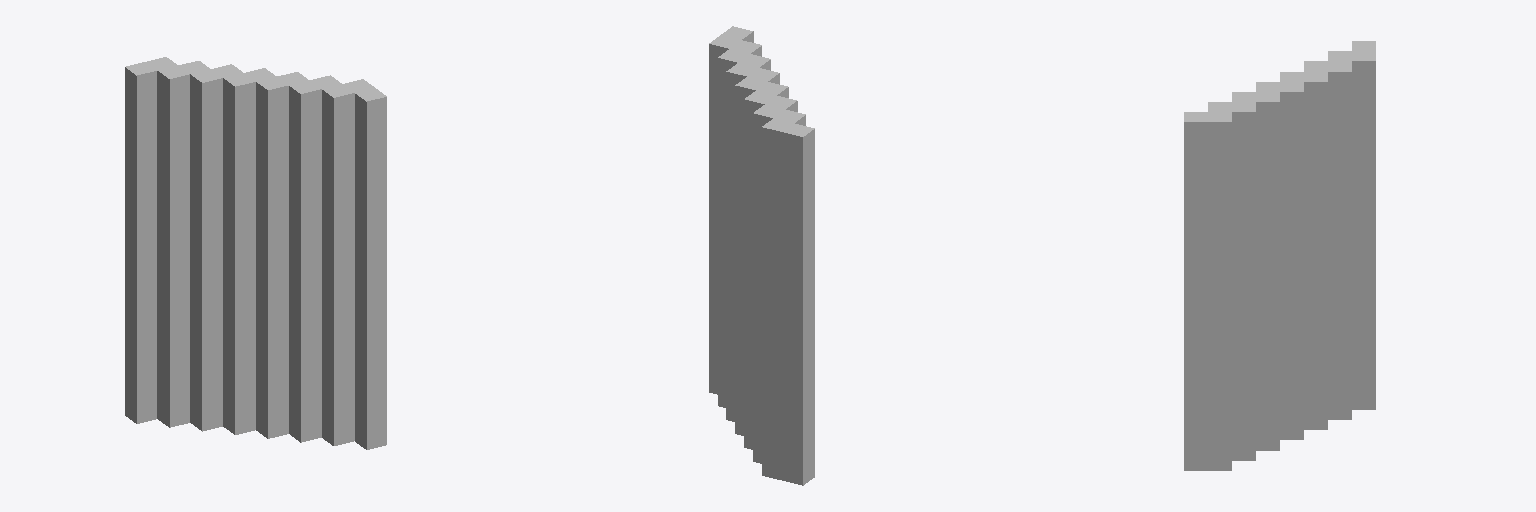
The model's file is portal.obj.
The picture shows the model from 3 angles: view 1: azimuth 30°, elevation 25°; view 2: azimuth 150°, elevation 25°; view 3: azimuth 270°, elevation 25°; orthographic projection.
Parts seen in each view (by area): view 1: object 1; view 2: object 1; view 3: object 1.
Part boxes in pixels (x1,y1,x2,y2): object 1: (125, 57, 386, 449); object 1: (709, 26, 814, 485); object 1: (1184, 41, 1375, 470).
Bounding box in the file's own units: 0.8 × 1.6 × 0.8.